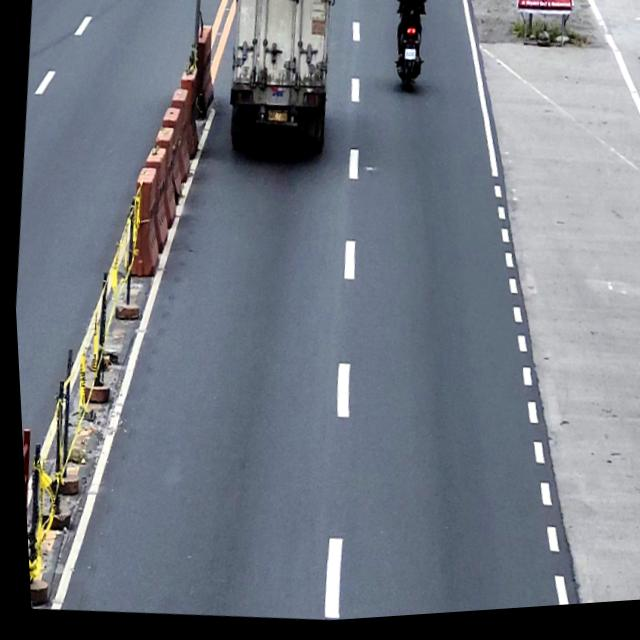License-Plate: (265, 110, 287, 127), (402, 53, 416, 67)
Motorcycle: (387, 8, 429, 99)
Truck: (217, 0, 345, 164)
